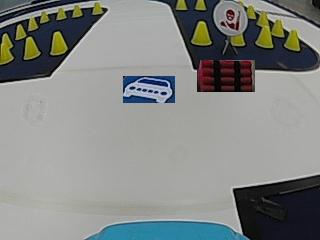evil: (213, 1, 248, 35)
